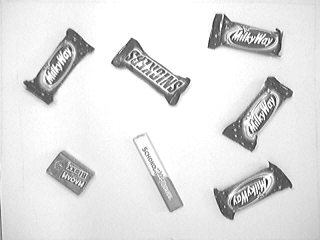Maoam: (44, 149, 97, 197)
Milkyway: (21, 25, 98, 107), (220, 73, 296, 154), (212, 159, 294, 221), (205, 11, 286, 61)
Riegel: (131, 131, 185, 214)
Snickers: (108, 36, 194, 108)
